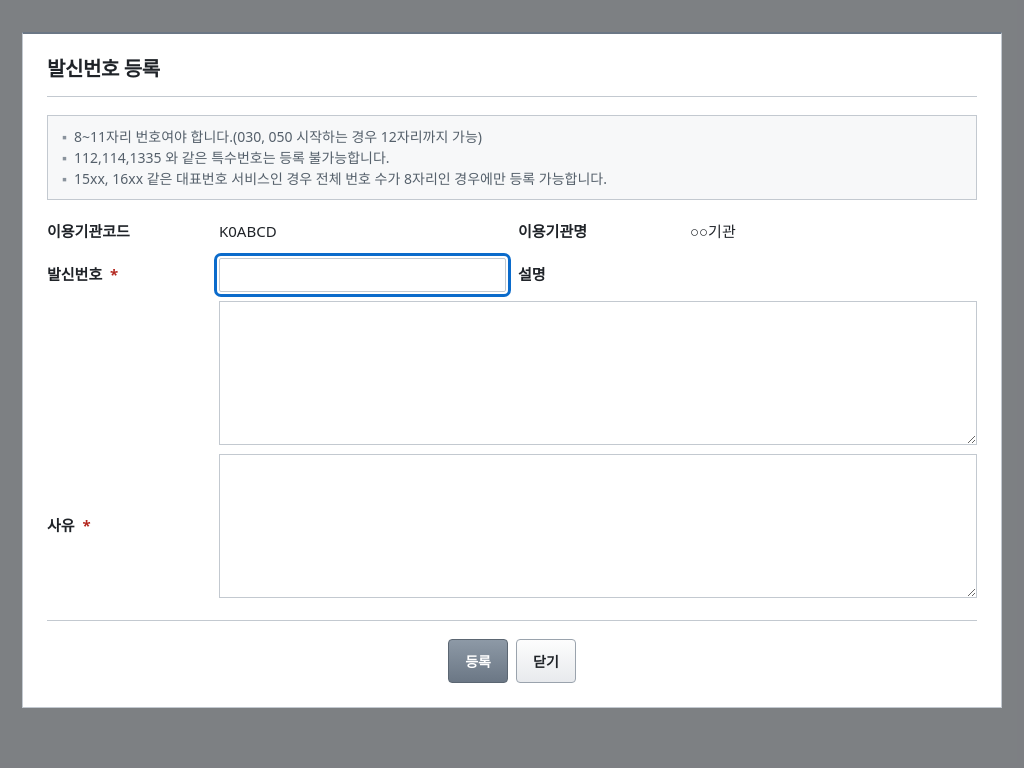
Test case: SenderNumberRegisterDialog › FR-SNDC-014 — 서버가 거절하면 폼이 열린 채 입력이 남는다
This screenshot has width=1024, height=768.
Expected: the text "○○기관" is shown, 690,221 -> 736,241
In the field labelled "발신번호 *": (362,274) 219,258 -> 506,292, type "1335"
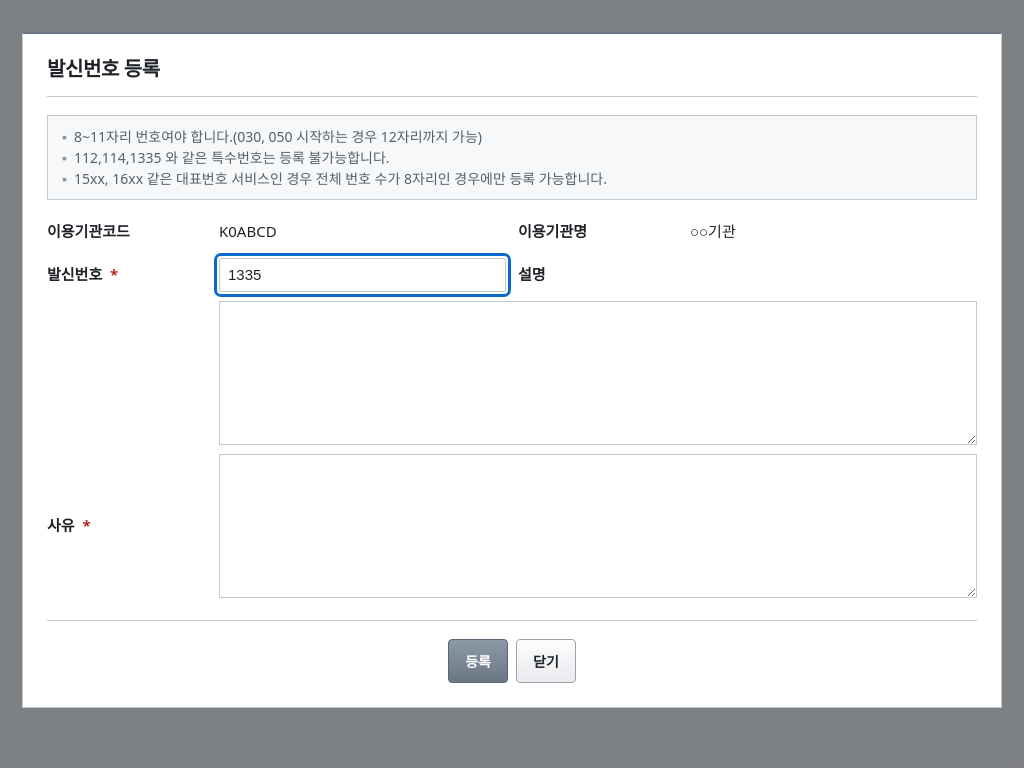
In the text box labelled "사유 *": (598,526) 219,454 -> 977,598, type "고객사 요청"
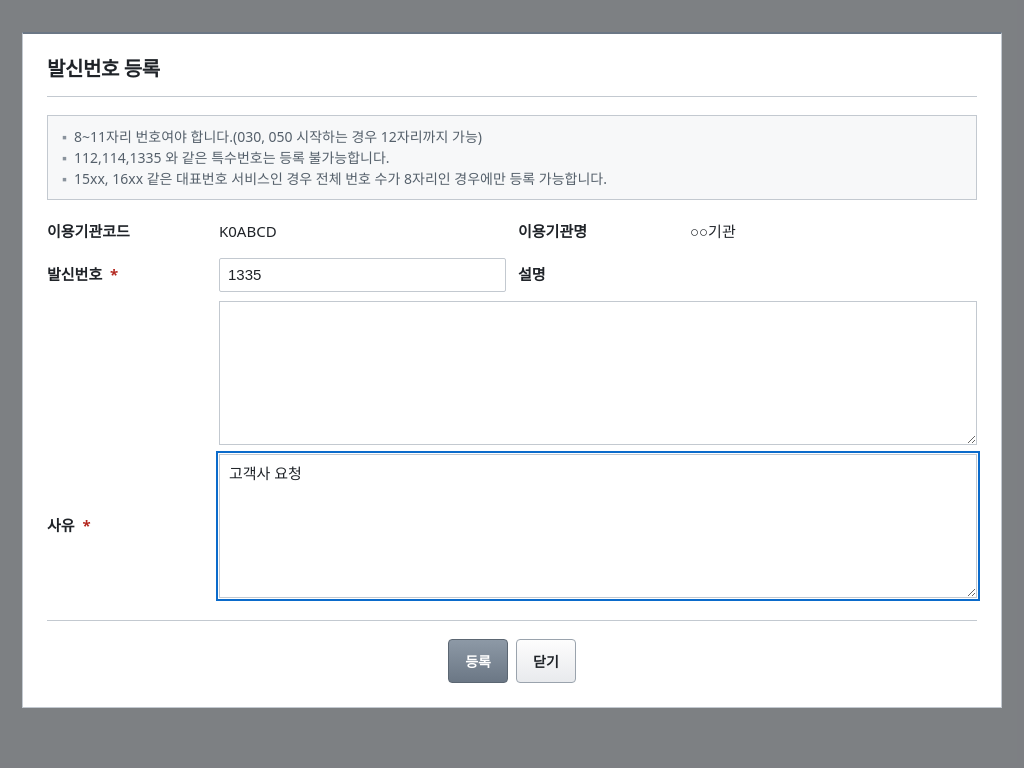
Click the button "등록": (478,660) 448,638 -> 508,682
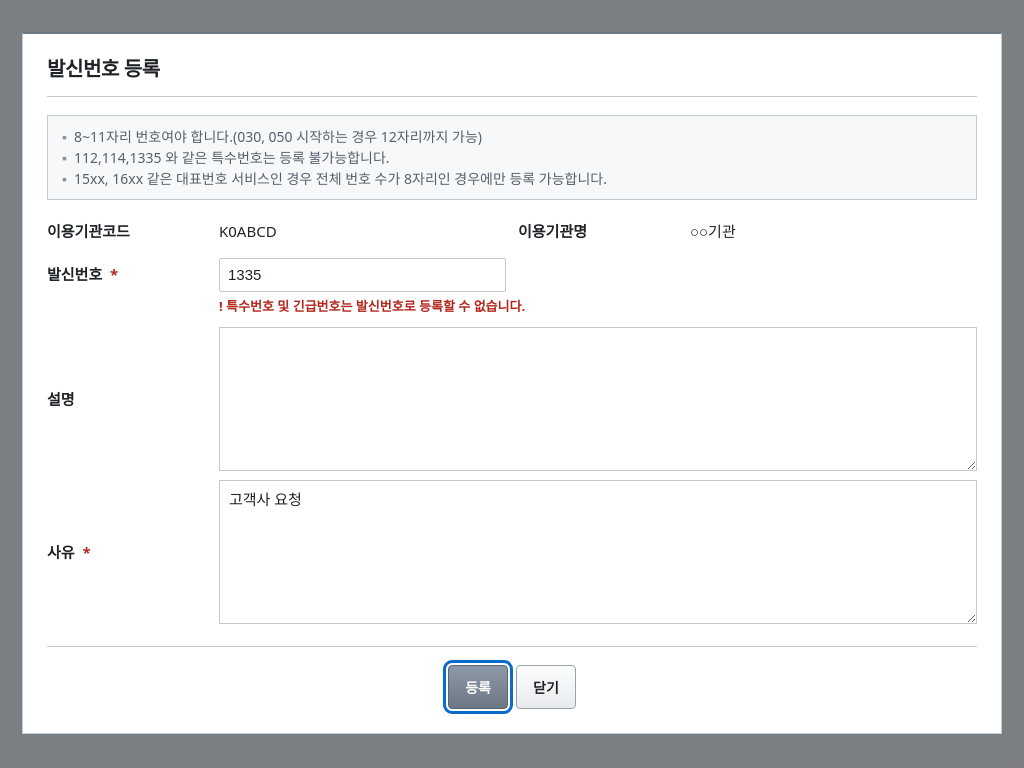
Now the message shows "특수번호", box 226,296 -> 525,314
